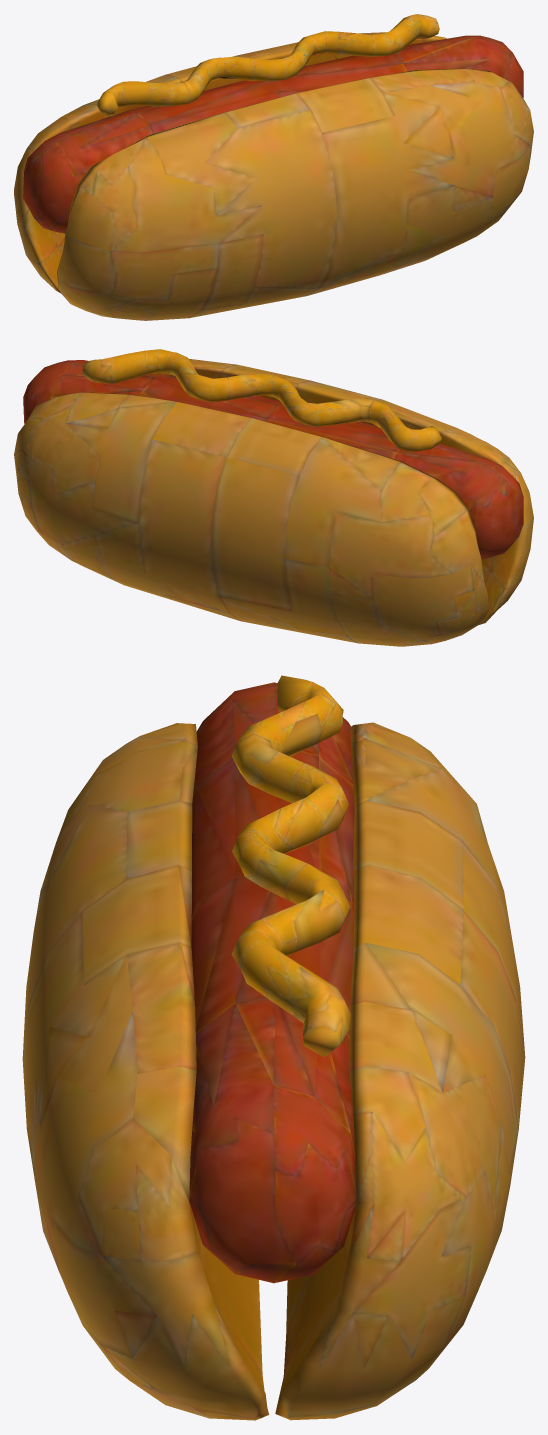
Rendered from hot-dog.glb.
3 renders of one model, top to bottom at view 1: azimuth 30°, elevation 25°; view 2: azimuth 150°, elevation 25°; view 3: azimuth 270°, elevation 25°, orthographic. The views are drawn at different scales.
Parts seen in each view (by area): view 1: geometry_0; view 2: geometry_0; view 3: geometry_0.
Boxes of the visible parts, x1=… form: geometry_0: x1=14, y1=14, x2=533, y2=320; geometry_0: x1=14, y1=349, x2=533, y2=646; geometry_0: x1=22, y1=675, x2=525, y2=1420.
Size of the model in its own units: 1 by 0.4481 by 0.453.
1 material, 1 textured.
